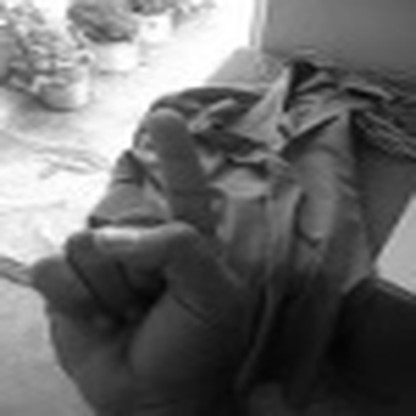d: (24, 102, 232, 415)
